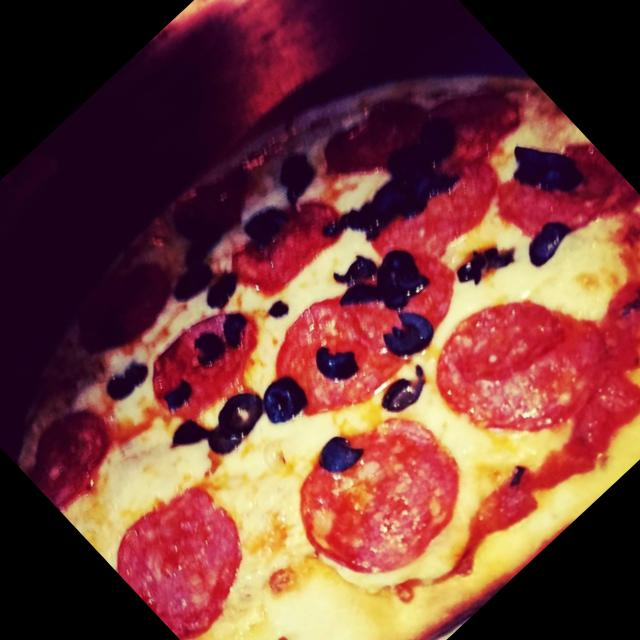black_olives: (316, 107, 482, 268), (332, 230, 436, 334), (496, 122, 594, 222), (190, 386, 268, 462), (178, 299, 256, 375), (371, 300, 445, 374), (506, 207, 581, 280), (247, 357, 319, 429), (264, 136, 334, 208), (444, 230, 514, 298), (306, 418, 370, 482), (192, 256, 255, 318), (306, 331, 367, 392), (94, 348, 156, 408), (166, 254, 223, 311), (240, 194, 288, 243), (154, 373, 199, 418)
pepperoni: (268, 386, 490, 610), (420, 265, 620, 465), (244, 261, 428, 444), (96, 464, 275, 640), (126, 285, 289, 447), (352, 140, 514, 299), (212, 178, 356, 320), (385, 76, 528, 216), (488, 120, 626, 256), (311, 76, 448, 212), (58, 246, 195, 381), (10, 391, 139, 518), (355, 225, 478, 348)
pizza: (17, 76, 640, 640)
